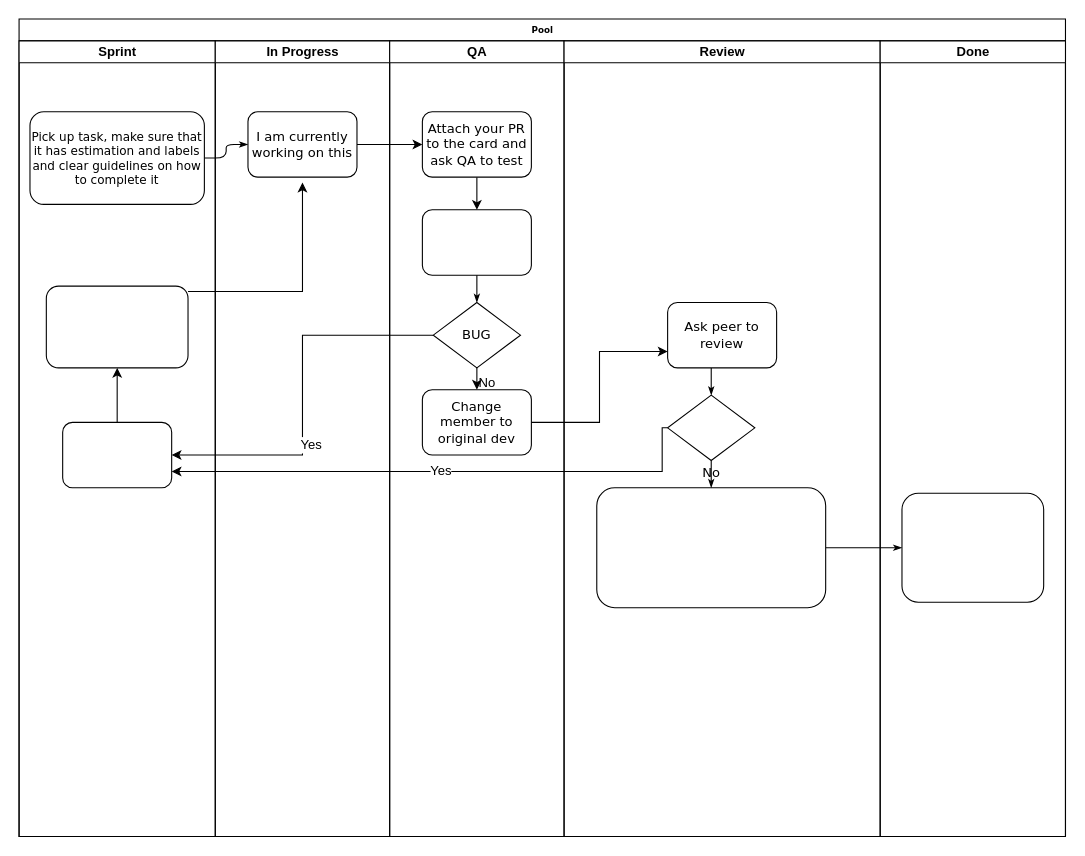
The diagram is 1085 pixels wide and 856 high, and some of its shapes have lost their labels. The shapes that lost their labels are listed below. From the top down, each one's centre as x and y in pixels, then its label:
At [476,242]: "QA tests".
At [116,326]: "Recheck why it was dropped back, and clear guideline given by QA/Reviewer".
At [711,427]: "Review Issue".
At [117,454]: "Reassign to Dev".
At [711,547]: "Change back to original Dev, original dev adds consumed points and merges the PR".
At [972,547]: "Moved here, then move to archive to product backlog".
